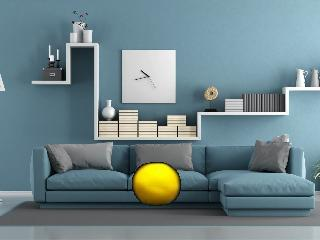lemon: (133, 164, 180, 206)
